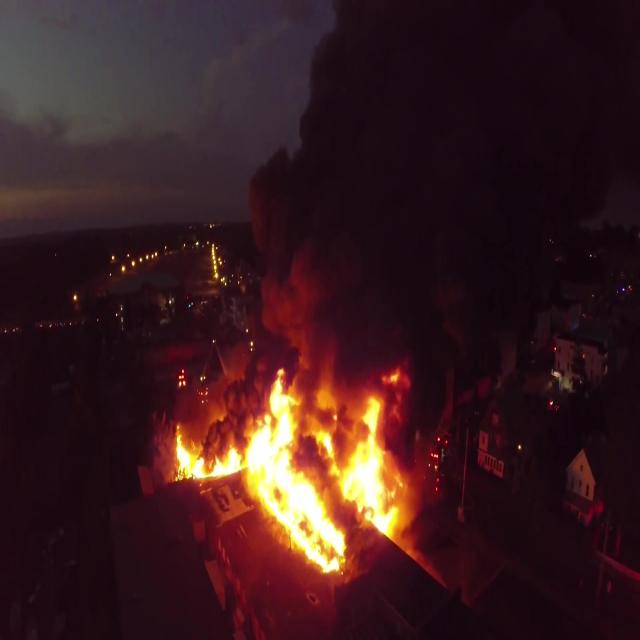Fire: (178, 365, 393, 583)
Smoke: (242, 1, 634, 384)
